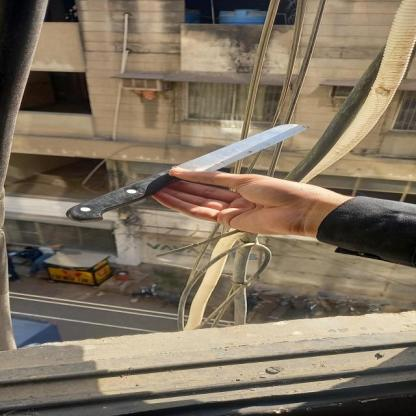Knife: (67, 125, 308, 222)
